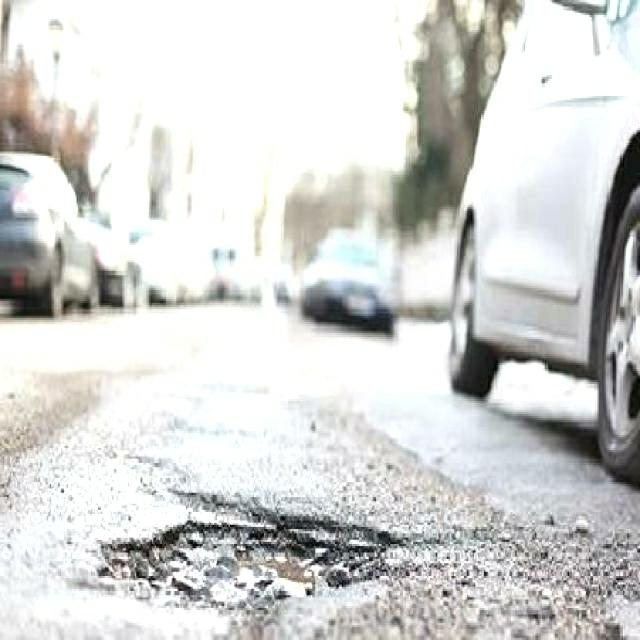Pothole: (96, 482, 399, 614)
